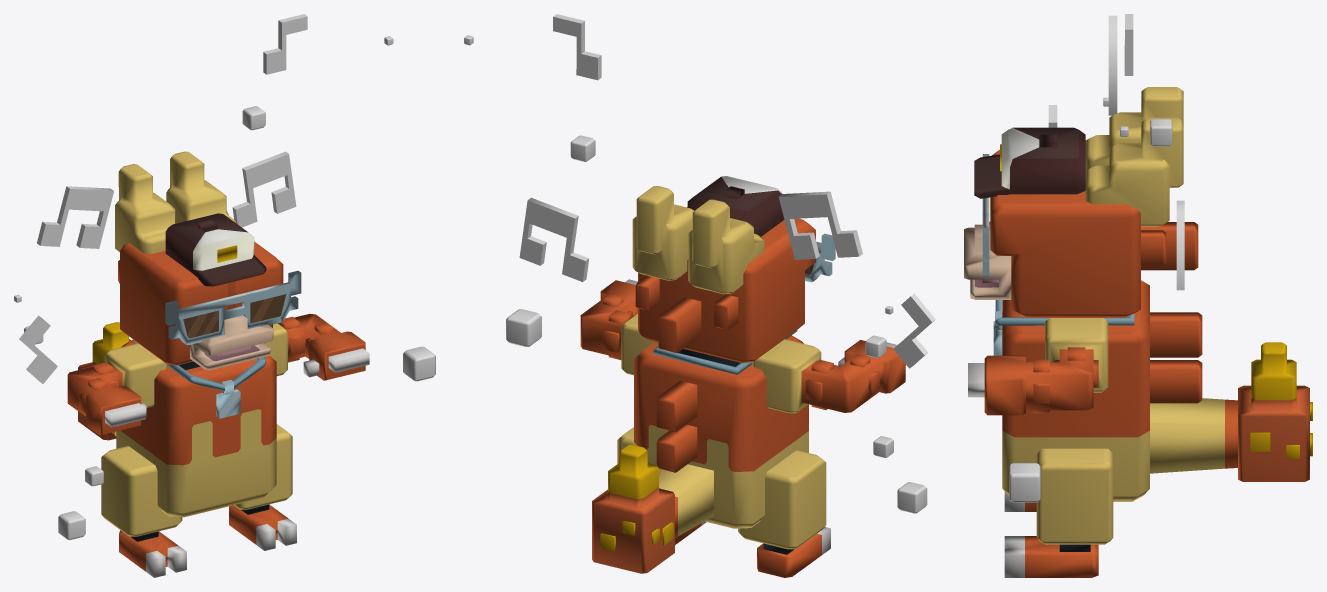
The model's file is PM126_HipHop.fbx.
The picture shows the model from 3 angles, left to right: view 1: azimuth 30°, elevation 25°; view 2: azimuth 150°, elevation 25°; view 3: azimuth 270°, elevation 25°; orthographic projection. The views are drawn at different scales.
Visible parts, largest first — view 1: model 1, polySurface9, polySurface10, polySurface11, polySurface8, polySurface1, polySurface3; view 2: model 1, polySurface9, polySurface10, polySurface11, polySurface8, polySurface1, polySurface3; view 3: model 1, polySurface1, polySurface9, polySurface10, polySurface6, polySurface11.
Boxes of the visible parts, <box> form: model 1: <box>67,151,369,577</box>; polySurface9: <box>37,186,113,248</box>; polySurface10: <box>232,151,296,227</box>; polySurface11: <box>263,14,307,74</box>; polySurface8: <box>19,315,57,383</box>; polySurface1: <box>403,346,435,381</box>; polySurface3: <box>58,511,85,539</box>; model 1: <box>580,176,905,577</box>; polySurface9: <box>778,191,862,259</box>; polySurface10: <box>519,197,589,281</box>; polySurface11: <box>553,14,601,80</box>; polySurface8: <box>893,293,935,368</box>; polySurface1: <box>506,309,541,347</box>; polySurface3: <box>897,482,927,513</box>; model 1: <box>964,87,1312,577</box>; polySurface1: <box>1009,463,1040,502</box>; polySurface9: <box>1108,15,1117,115</box>; polySurface10: <box>1176,200,1184,290</box>; polySurface6: <box>1150,119,1172,146</box>; polySurface11: <box>1124,14,1133,75</box>.
Size of the model in its own units: 3.39 by 3.86 by 2.09.
